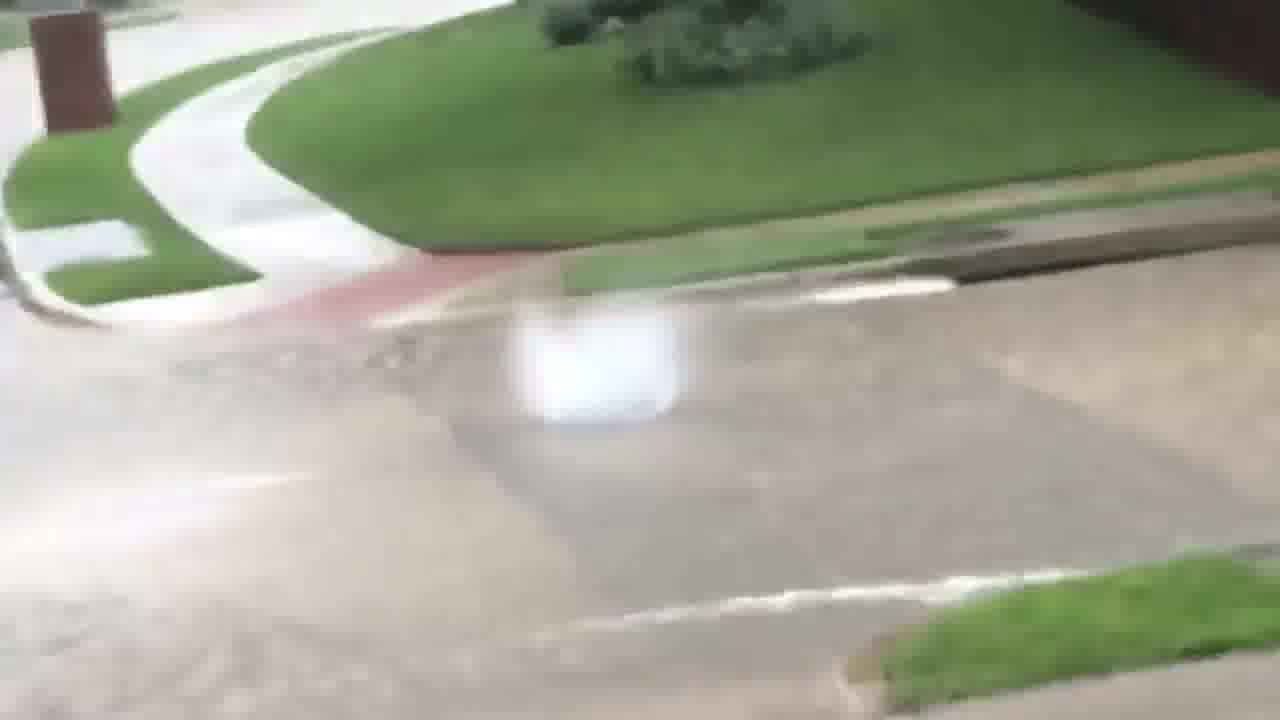drainage overflow-repair-: (509, 296, 679, 427)
